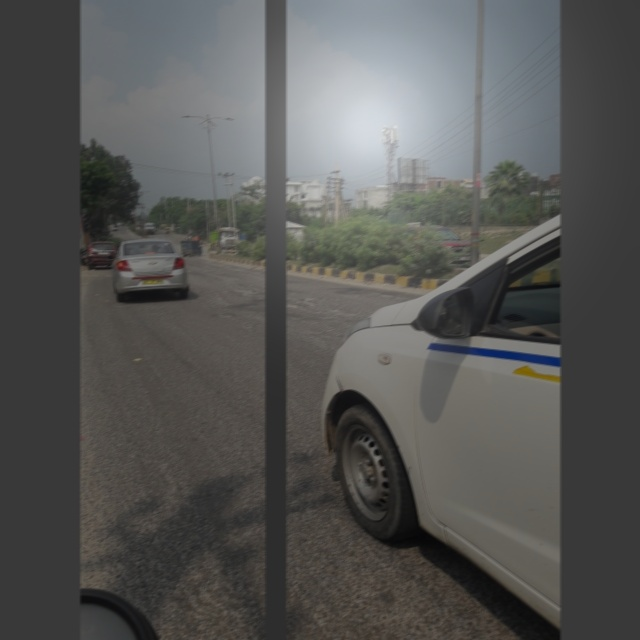Cross_Road: (266, 185, 292, 212)
